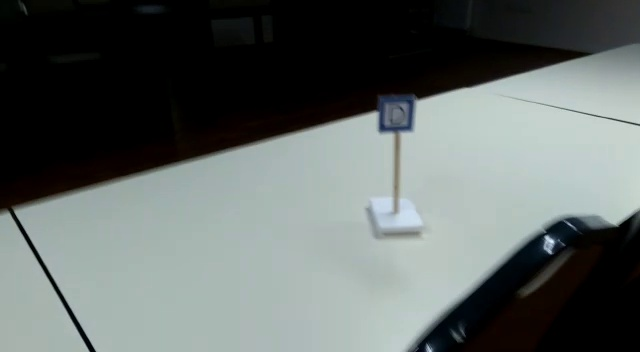durak: (376, 97, 415, 133)
